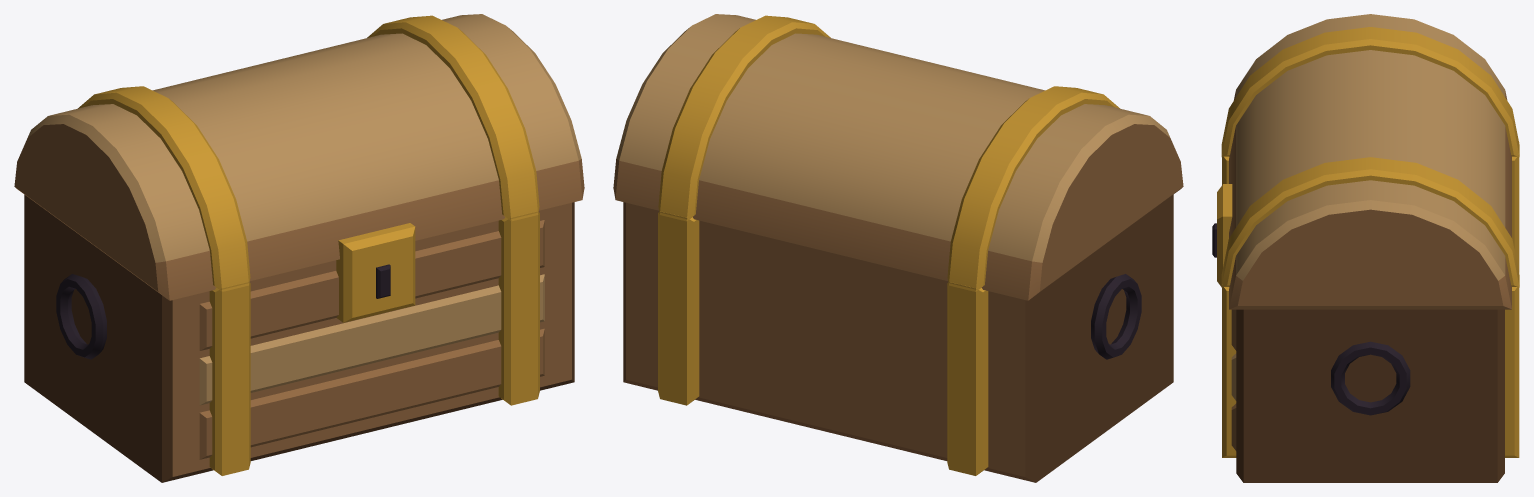
File: Chest_06.glb
The picture shows the model from 3 angles, left to right: view 1: azimuth 30°, elevation 25°; view 2: azimuth 150°, elevation 25°; view 3: azimuth 270°, elevation 25°; orthographic projection. The views are drawn at different scales.
Visible parts, largest first — view 1: Chest_06; view 2: Chest_06; view 3: Chest_06.
Part boxes in pixels (x1=…): Chest_06: x1=14, y1=14, x2=584, y2=482; Chest_06: x1=613, y1=14, x2=1183, y2=482; Chest_06: x1=1212, y1=14, x2=1519, y2=482.
Size of the model in its own units: 3.97 by 2.68 by 2.56.
